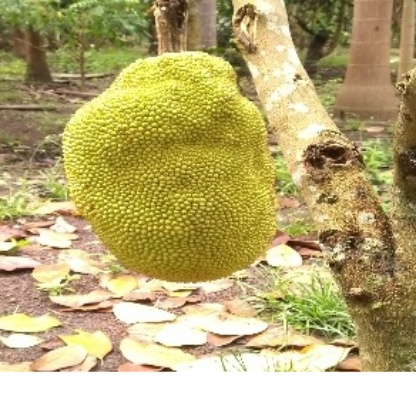mit: (61, 47, 280, 286)
